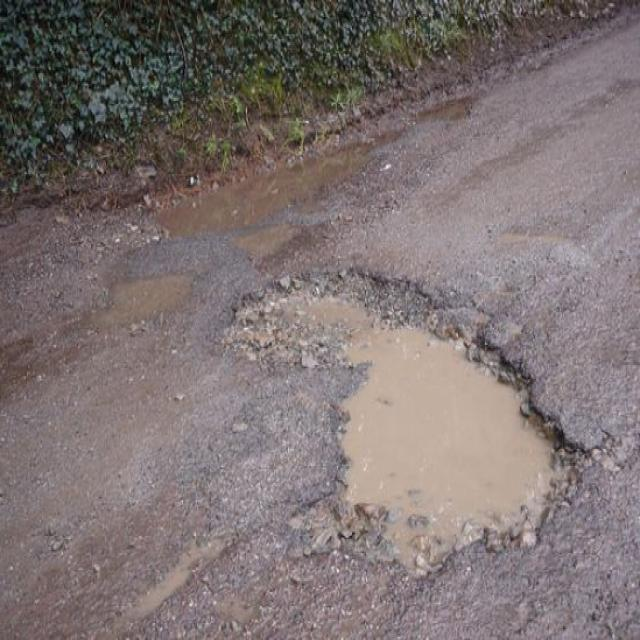pothole: (219, 258, 604, 584)
